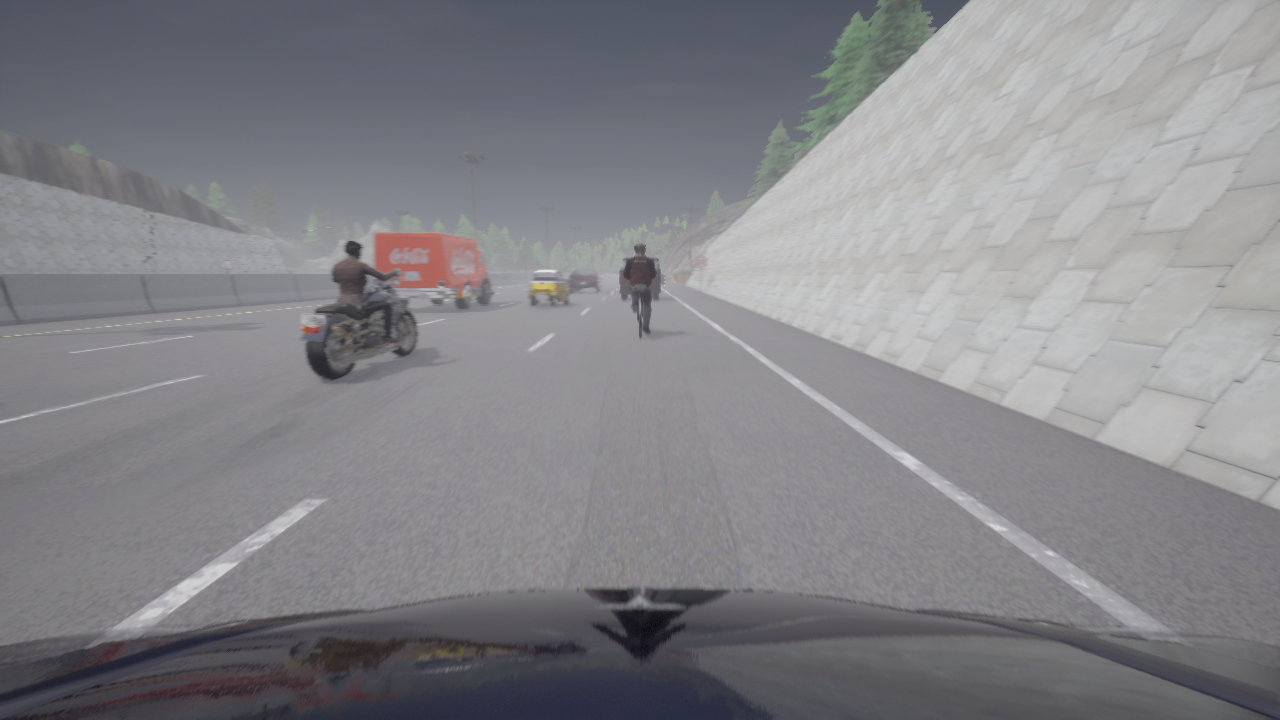cyclist: (0, 588, 1279, 719), (301, 269, 416, 380), (374, 232, 495, 309), (620, 256, 659, 299), (529, 269, 568, 306), (568, 269, 602, 292), (633, 294, 648, 337), (660, 273, 663, 283)
